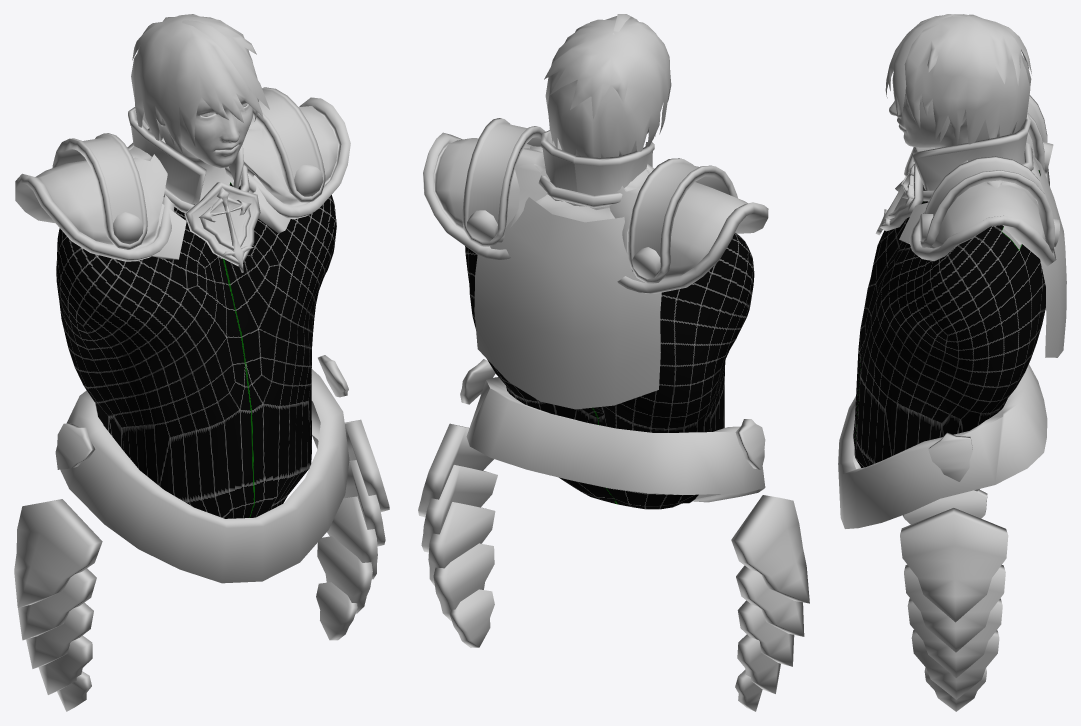
The model's file is Park Chang-sal.fbx.
3 renders of one model, left to right at view 1: azimuth 30°, elevation 25°; view 2: azimuth 150°, elevation 25°; view 3: azimuth 270°, elevation 25°, orthographic. The views are drawn at different scales.
Visible parts, largest first — view 1: Object010; view 2: Object010; view 3: Object010.
Boxes of the visible parts, <box> form: Object010: <box>14,14,389,711</box>; Object010: <box>418,14,809,711</box>; Object010: <box>838,14,1066,711</box>.
Bounding box in the file's own units: 26.39 × 43.53 × 14.33.
